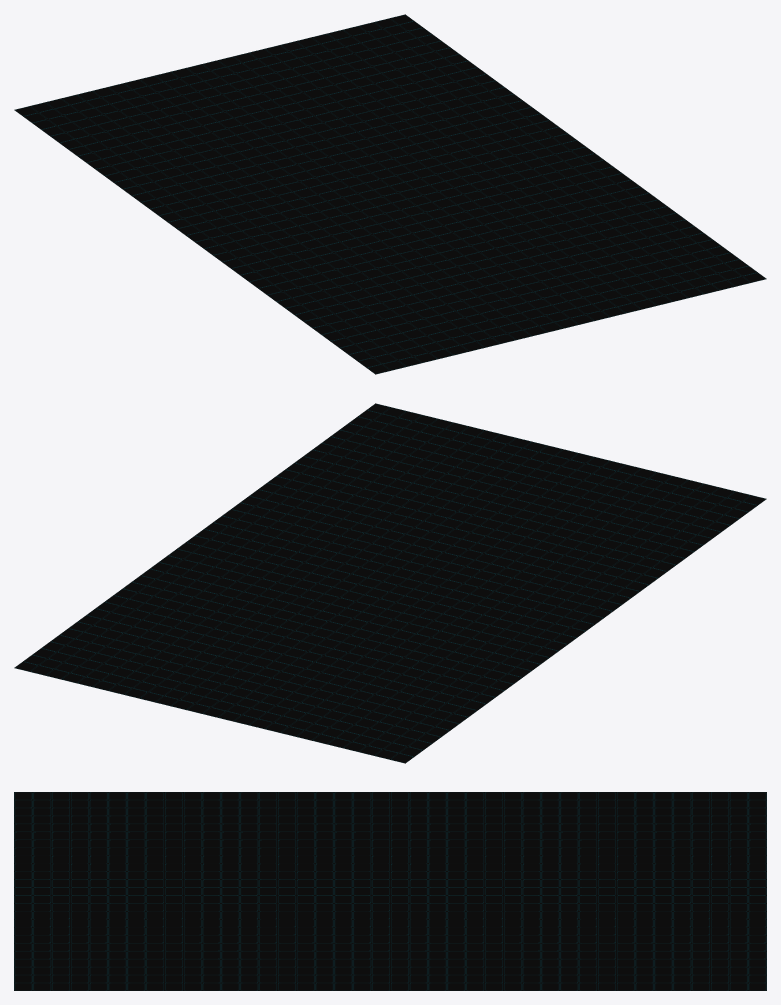
File: arena.obj
3 views of the same model, one above another, from view 1: azimuth 30°, elevation 25°; view 2: azimuth 150°, elevation 25°; view 3: azimuth 270°, elevation 25° (orthographic). The views are drawn at different scales.
Parts seen in each view (by area): view 1: segment; view 2: segment; view 3: segment.
Part boxes in pixels (x1,y1,x2,y2): segment: [14, 14, 766, 374]; segment: [14, 403, 766, 763]; segment: [14, 792, 766, 990].
Size of the model in its own units: 25 by 0 by 40.
Materials: 1 (1 with a texture image).
